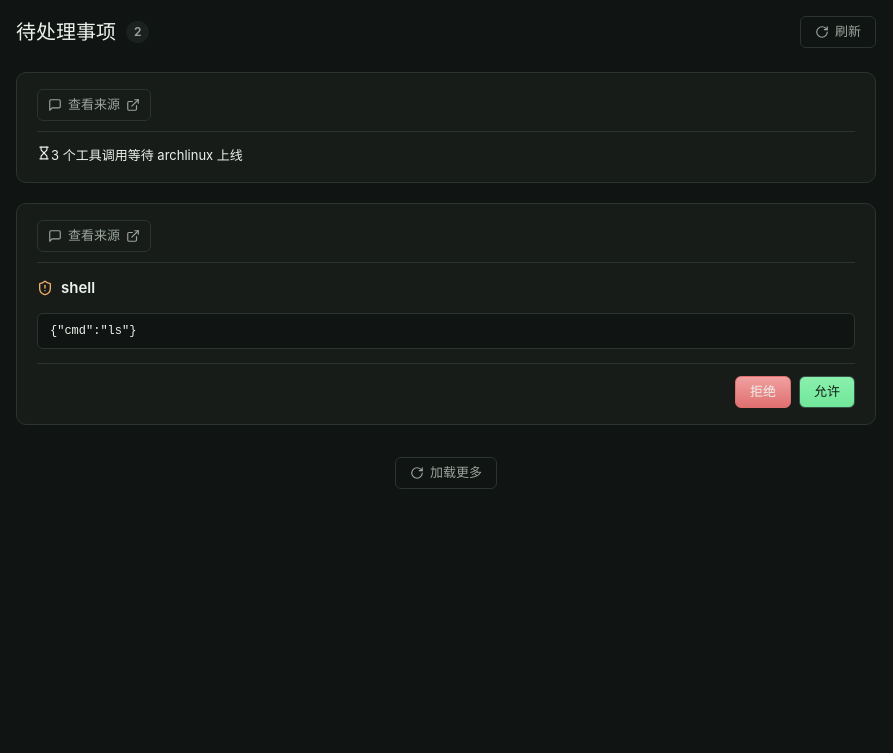
Scenario: InteractionsPage › supports refresh and load more, and renders environment waits read-only without raw fallback
Expected: the text "3 个工具调用等待 archlinux 上线" is shown, [51,147,243,163]
Expected: the text "加载更多" is shown, [430,463,482,483]
# 分页失败不能用错误态替换已加载卡片；恢复动作仍可用。
Click the button "加载更多".
click(446, 473)  # box [395,457,497,489]
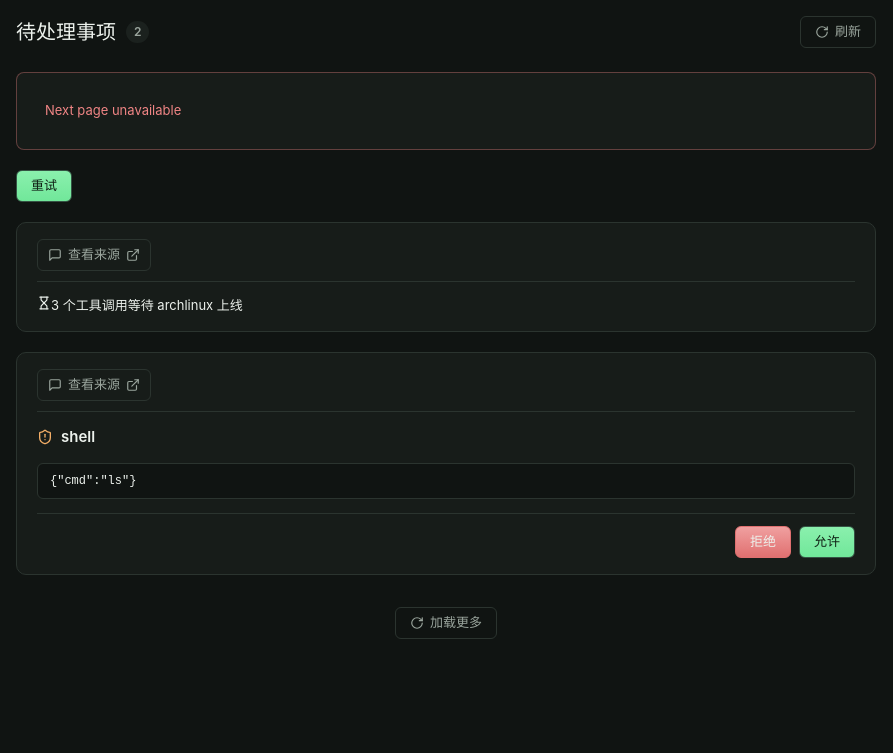
Expected: the text "3 个工具调用等待 archlinux 上线" is shown, [51,296,243,312]
Expected: the text "Next page unavailable" is shown, [16,72,876,150]
Expected: the button "重试" is enabled, [16,170,72,202]
Click the button "加载更多".
click(446, 622)  # box [395,606,497,638]
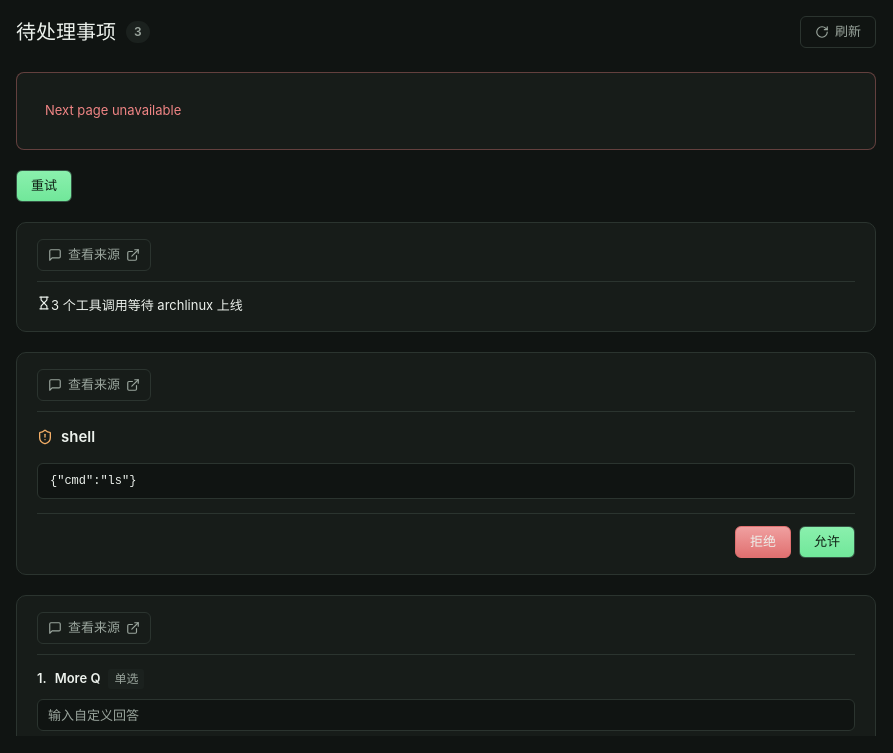
Expected: the text "More Q" is shown, [55,669,100,688]
Expected: the button "加载更多" is gone
Click the button "重试".
click(44, 186)  # box [16,170,72,202]
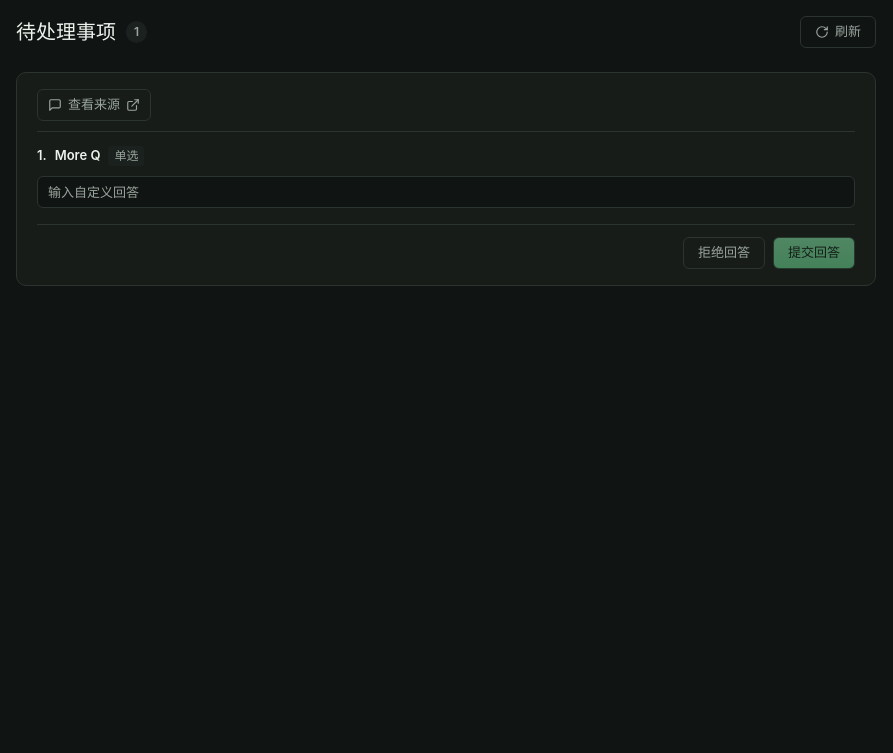
Expected: the text "Next page unavailable" is gone
